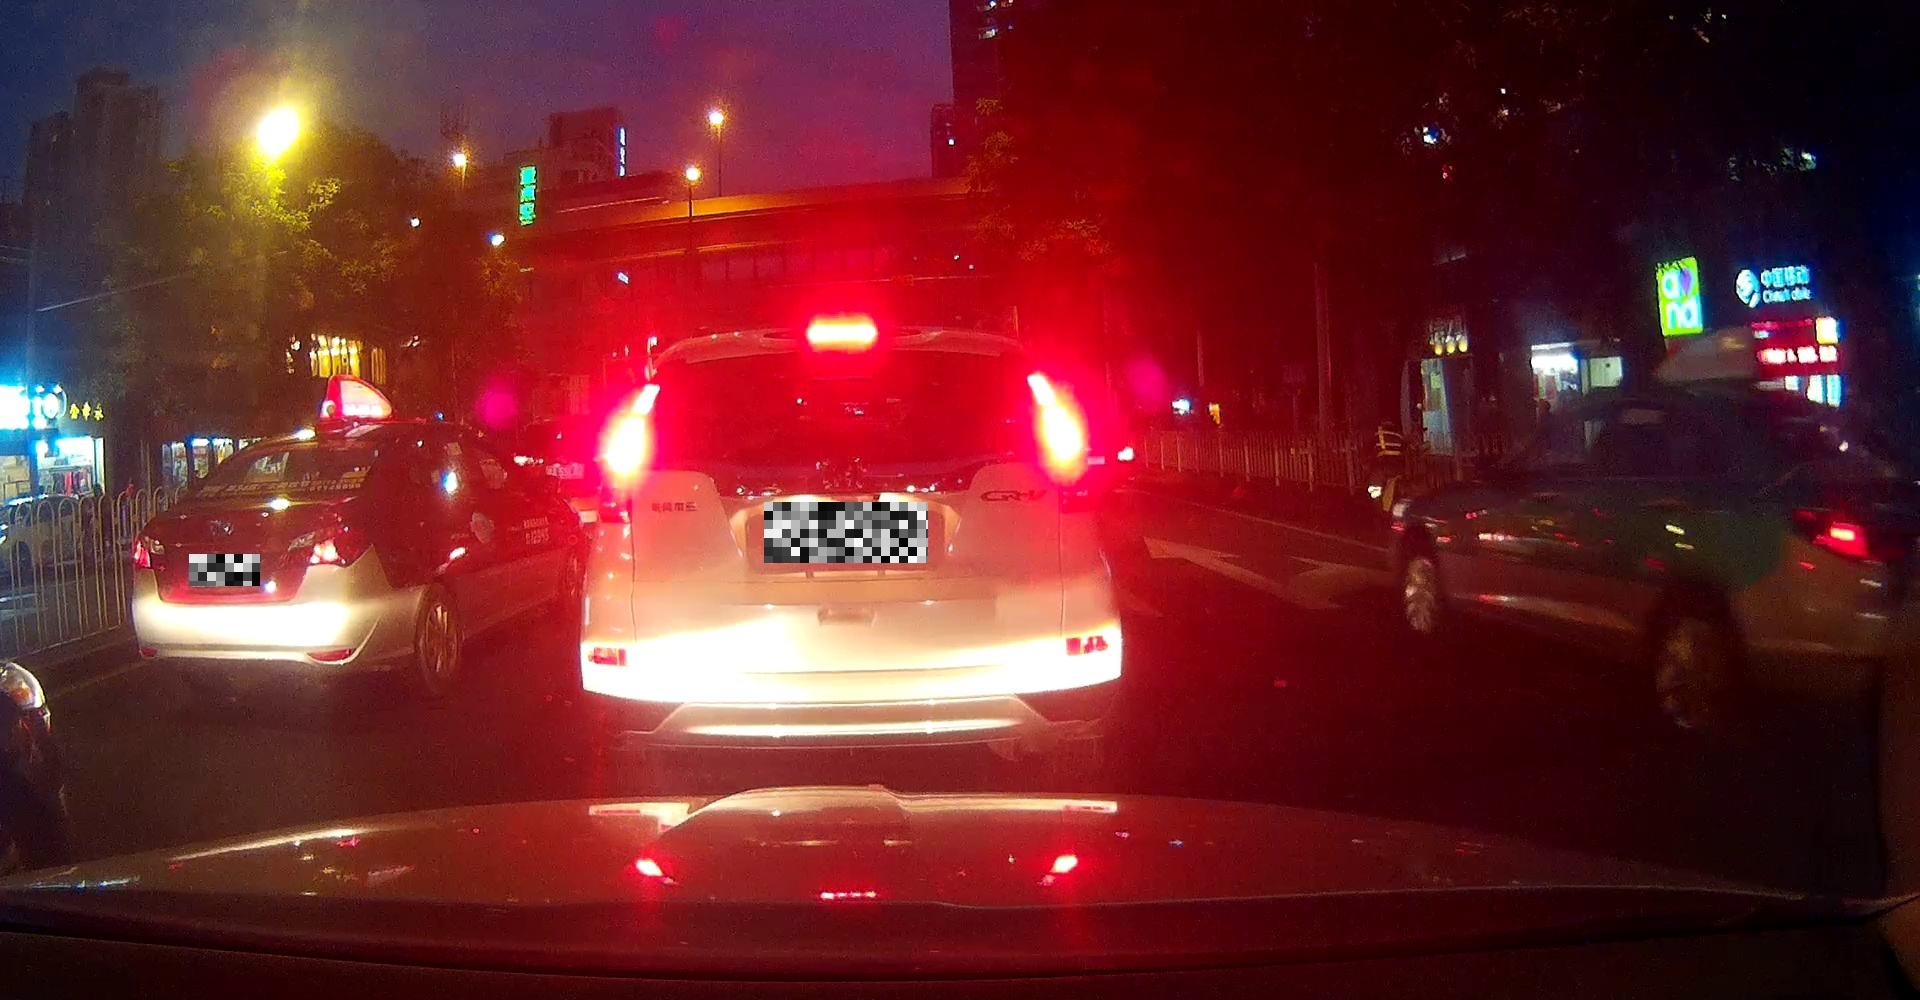L_light: (596, 410, 650, 525), (131, 530, 168, 572)
R_light: (1034, 395, 1096, 516), (276, 520, 364, 569)
T_light: (808, 319, 877, 350), (283, 437, 319, 451)
night-brake: (579, 315, 1123, 778)
night-no: (130, 423, 411, 714)
plate_1: (189, 555, 260, 586)
plate_2: (764, 503, 928, 563)
